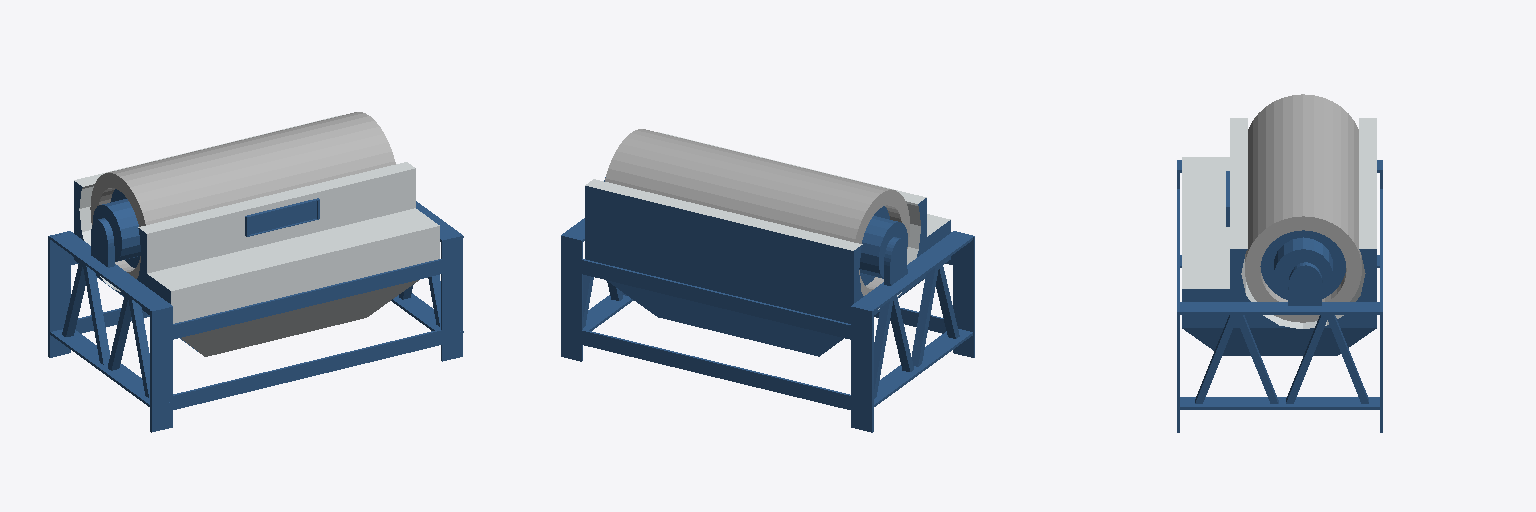
Rendered from heavy_media_separator.obj.
3 views of the same model, side by side, from view 1: azimuth 30°, elevation 25°; view 2: azimuth 150°, elevation 25°; view 3: azimuth 270°, elevation 25° (orthographic).
Visible parts, largest first — view 1: ___, __, ___.9, ___.10, ___.12, ___.11, ___.6, ___.1, ___.5, ___.14, ___.15, __.2 (+4 smaller); view 2: ___, __, ___.4, ___.3, ___.1, ___.2, ___.6, ___.12, ___.5, ___.16, __.2, ___.13 (+3 smaller); view 3: __, ___, ___.7, ___.8, __.1, __.3, ___.18, ___.17, ___.19, ___.20.
Boxes of the visible parts, x1=… form: ___: x1=74, y1=115, x2=439, y2=356; __: x1=79, y1=112, x2=395, y2=291; ___.9: x1=173, y1=329, x2=447, y2=409; ___.10: x1=168, y1=259, x2=447, y2=339; ___.12: x1=150, y1=305, x2=172, y2=432; ___.11: x1=441, y1=234, x2=462, y2=361; ___.6: x1=50, y1=232, x2=172, y2=313; ___.1: x1=48, y1=231, x2=70, y2=357; ___.5: x1=50, y1=329, x2=172, y2=408; ___.14: x1=82, y1=263, x2=109, y2=364; ___.15: x1=128, y1=297, x2=149, y2=398; __.2: x1=91, y1=218, x2=114, y2=267; ___: x1=585, y1=132, x2=950, y2=356; __: x1=605, y1=129, x2=920, y2=309; ___.4: x1=576, y1=329, x2=855, y2=411; ___.3: x1=576, y1=259, x2=855, y2=340; ___.1: x1=851, y1=305, x2=873, y2=432; ___.2: x1=561, y1=235, x2=582, y2=361; ___.6: x1=853, y1=232, x2=972, y2=311; ___.12: x1=953, y1=231, x2=974, y2=357; ___.5: x1=874, y1=329, x2=972, y2=406; ___.16: x1=912, y1=265, x2=938, y2=366; __.2: x1=884, y1=237, x2=907, y2=285; ___.13: x1=874, y1=299, x2=893, y2=398; __: x1=1241, y1=94, x2=1365, y2=328; ___: x1=1182, y1=118, x2=1376, y2=355; ___.7: x1=1177, y1=302, x2=1381, y2=314; ___.8: x1=1177, y1=397, x2=1381, y2=409; __.1: x1=1260, y1=230, x2=1345, y2=299; __.3: x1=1288, y1=262, x2=1322, y2=305; ___.18: x1=1195, y1=315, x2=1237, y2=403; ___.17: x1=1237, y1=315, x2=1278, y2=403; ___.19: x1=1286, y1=315, x2=1328, y2=403; ___.20: x1=1326, y1=315, x2=1368, y2=403.
Size of the model in its own units: 847 by 524 by 486.